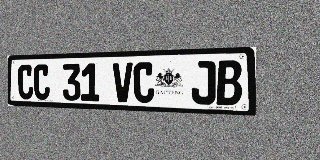1: (81, 63, 99, 101)
3: (63, 64, 80, 101)
B: (216, 60, 242, 106)
C: (133, 62, 154, 103), (33, 64, 50, 100), (18, 65, 33, 100)
J: (191, 61, 215, 105)
V: (113, 62, 133, 102)
